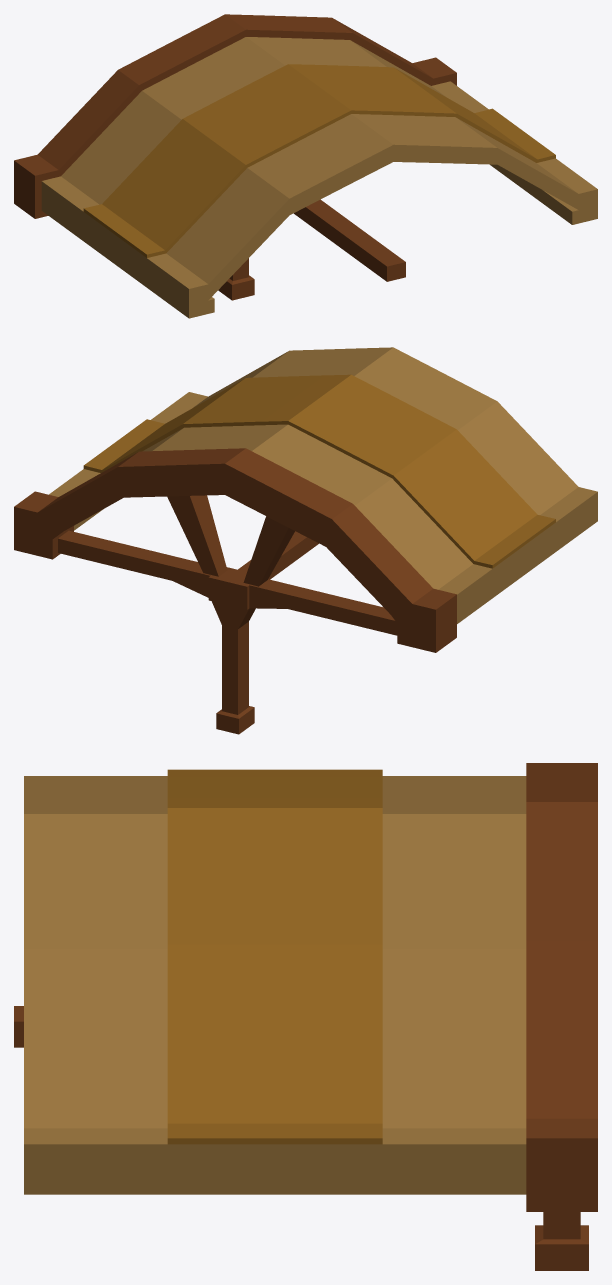
Rendered from Roof_1.fbx.
3 renders of one model, top to bottom at view 1: azimuth 30°, elevation 25°; view 2: azimuth 150°, elevation 25°; view 3: azimuth 270°, elevation 25°, orthographic. The views are drawn at different scales.
Visible parts, largest first — view 1: Room.001; view 2: Room.001; view 3: Room.001.
Boxes of the visible parts, x1=… form: Room.001: x1=14, y1=14, x2=597, y2=318; Room.001: x1=14, y1=347, x2=597, y2=734; Room.001: x1=14, y1=763, x2=597, y2=1270.
Size of the model in its own units: 745 by 456 by 525.
